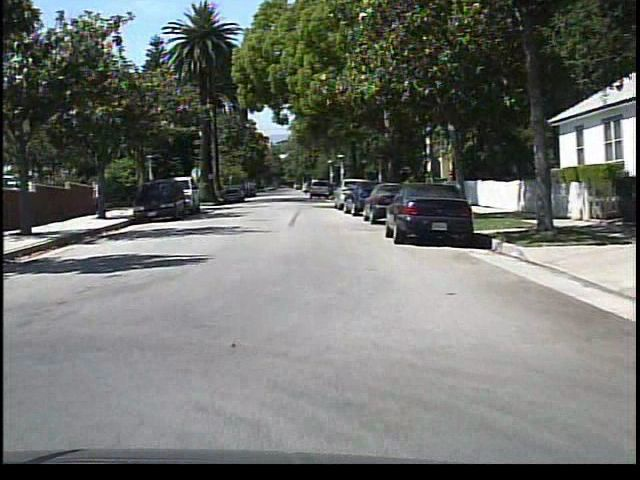person: (88, 176, 105, 216)
